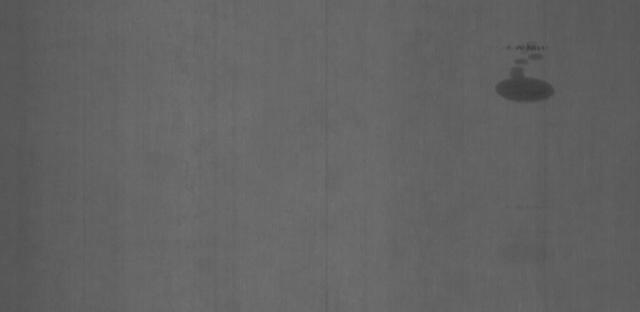oil_spot: (486, 43, 579, 116)
